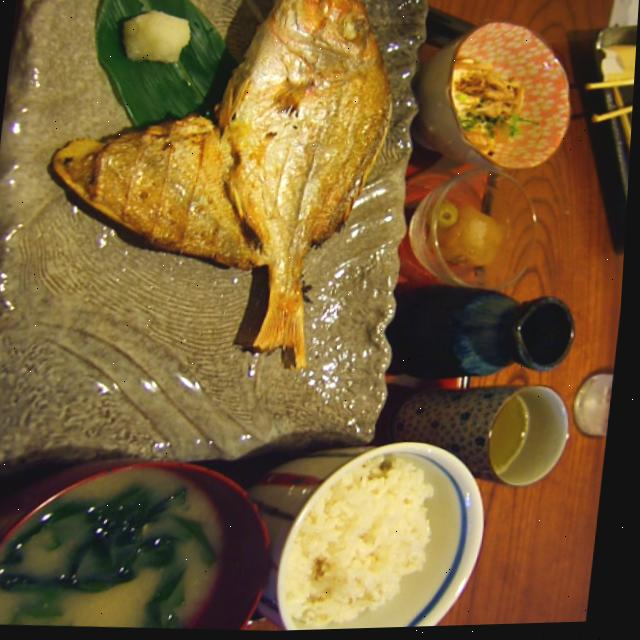熟制海鲜: (197, 0, 402, 361)
